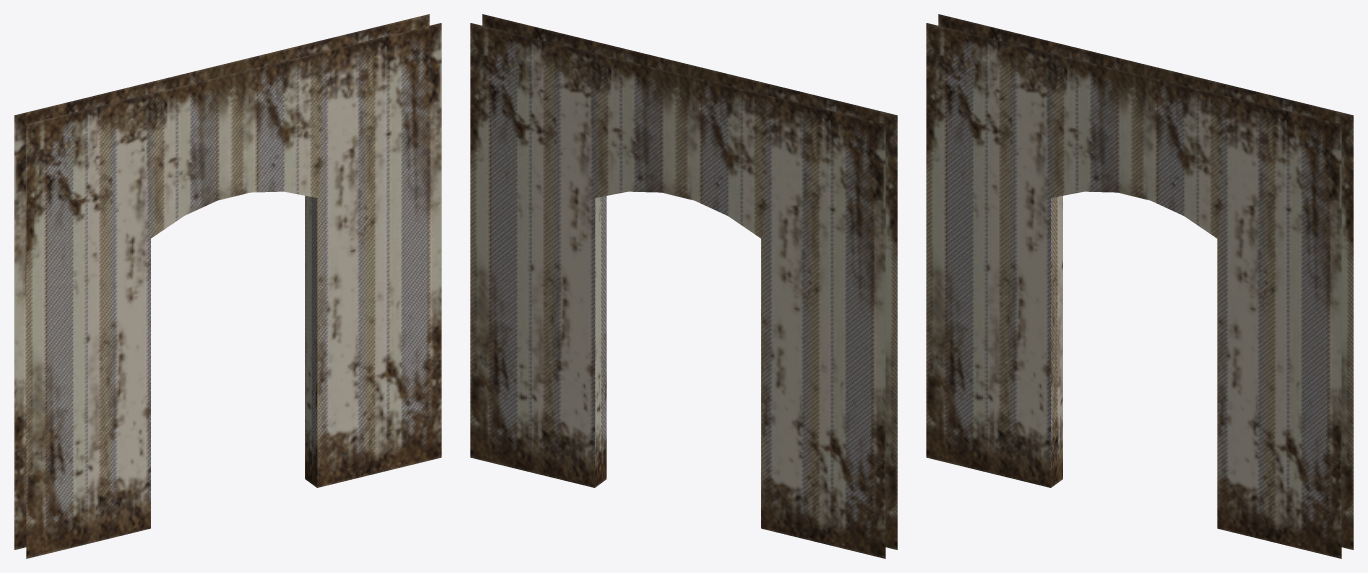
The model's file is wall_white_archway_2.obj.
The picture shows the model from 3 angles, left to right: view 1: azimuth 30°, elevation 25°; view 2: azimuth 150°, elevation 25°; view 3: azimuth 330°, elevation 25°; orthographic projection.
Visible parts, largest first — view 1: Wall_Archway_Cap.001; view 2: Wall_Archway_Cap.001; view 3: Wall_Archway_Cap.001.
Boxes of the visible parts, <box> form: Wall_Archway_Cap.001: <box>14,14,441,558</box>; Wall_Archway_Cap.001: <box>470,14,897,558</box>; Wall_Archway_Cap.001: <box>926,14,1353,558</box>.
Bounding box in the file's own units: 3 × 3 × 0.15.
1 material, 1 textured.
